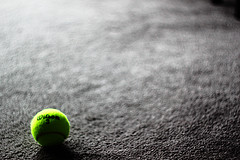tennis ball: (29, 107, 71, 148)
